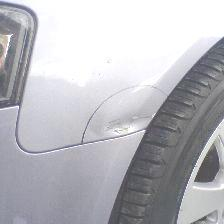door_dent: (89, 91, 142, 151)
